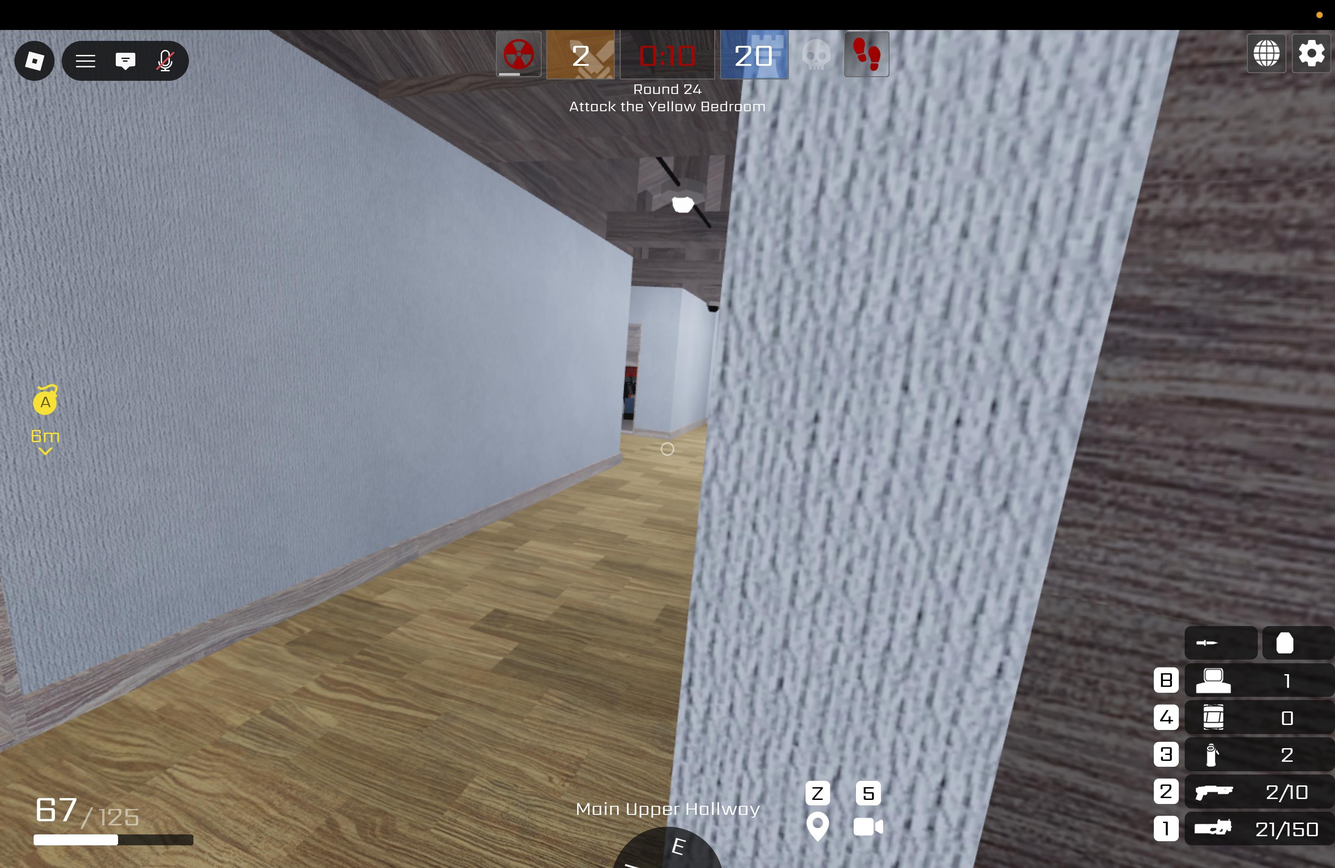enemy: (620, 363, 640, 422)
